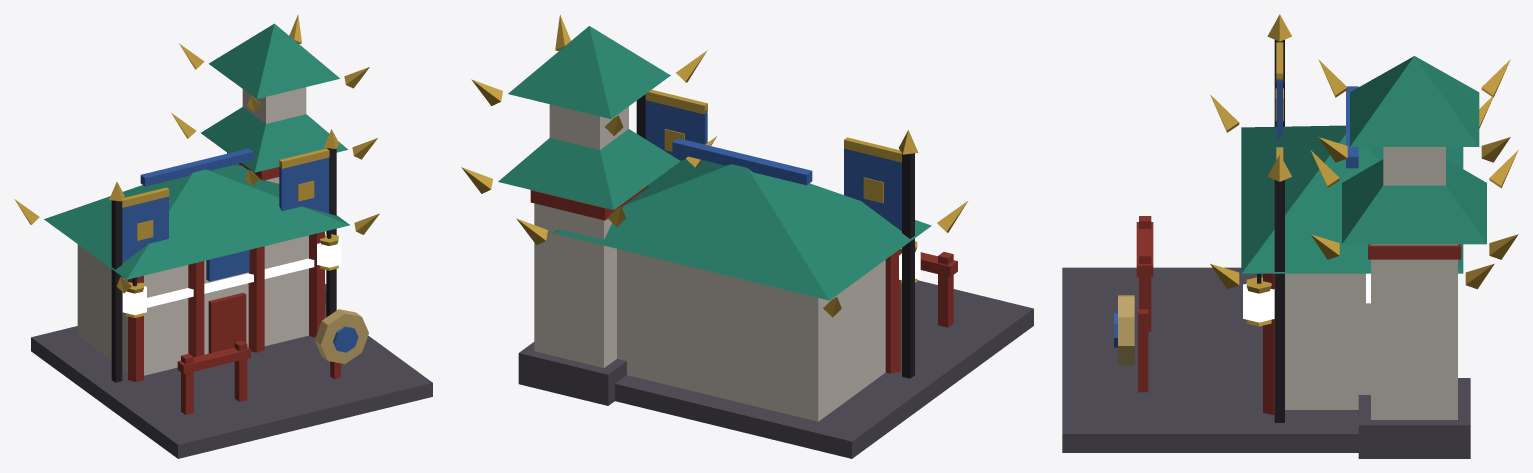
Rendered from camp_militia_t3.glb.
3 views of the same model, side by side, from view 1: azimuth 30°, elevation 25°; view 2: azimuth 150°, elevation 25°; view 3: azimuth 270°, elevation 25° (orthographic). The views are drawn at different scales.
Visible parts, largest first — view 1: body, glow; view 2: body; view 3: body, glow.
Boxes of the visible parts, x1=… form: body: x1=14, y1=14, x2=432, y2=458; glow: x1=122, y1=239, x2=341, y2=315; body: x1=461, y1=14, x2=1033, y2=458; body: x1=1062, y1=14, x2=1518, y2=458; glow: x1=1243, y1=273, x2=1370, y2=322.
Bounding box in the file's own units: 2.2 × 2.02 × 2.2.
